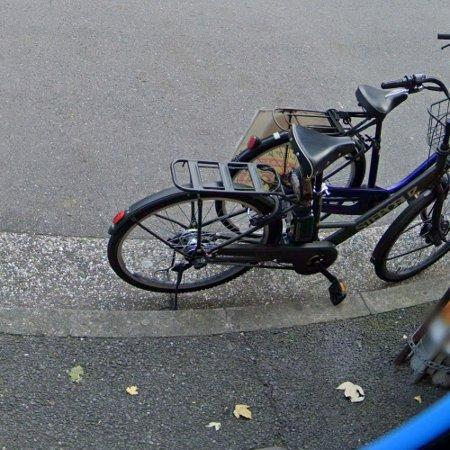bicycles: (108, 99, 450, 303)
